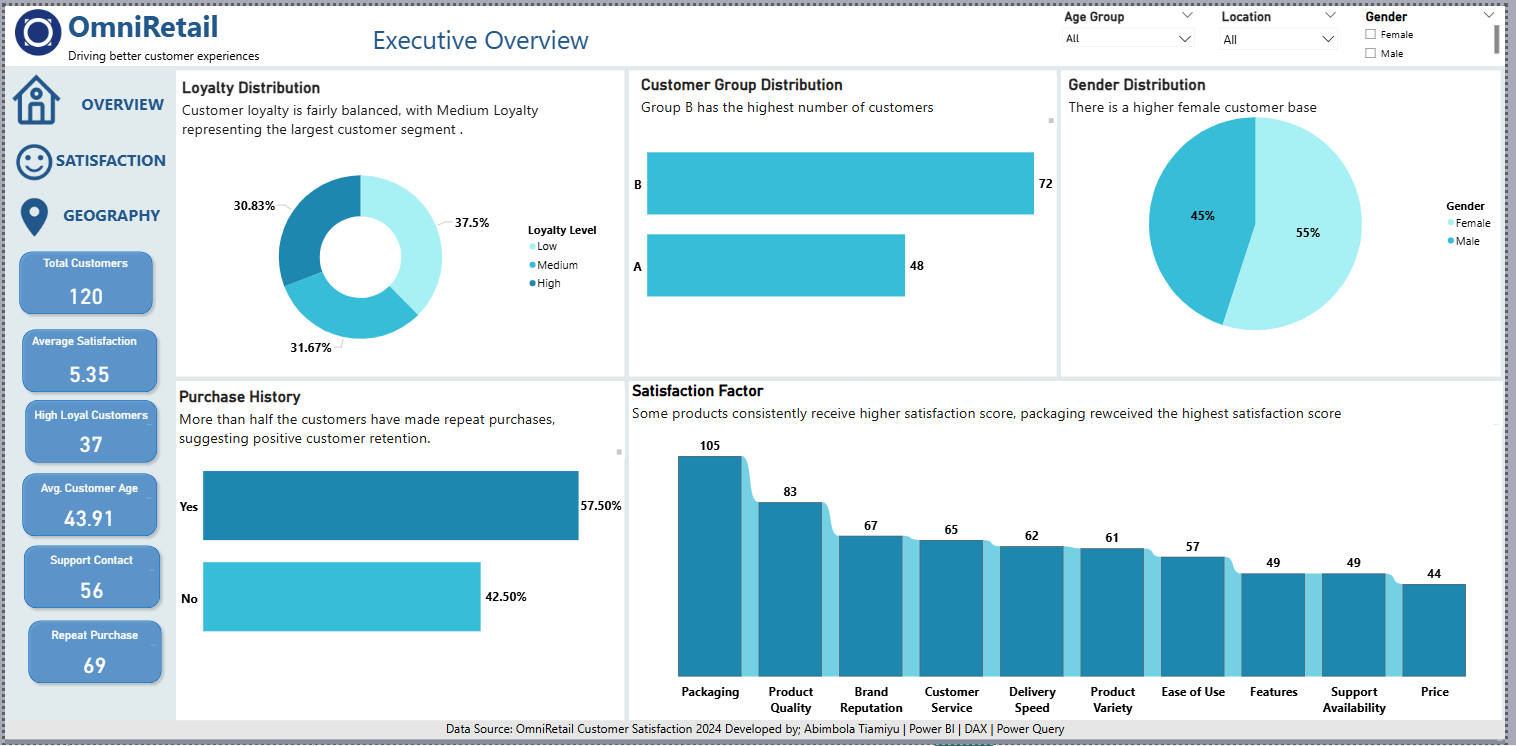

Layout of this report page (visuals, bound fields, positions):
{"tool":"powerbi","page":{"name":"EXECUTIVE OVERVIEW","canvas":[2500,1230],"ordinal":0},"visuals":[{"type":"shape","box":[0,2.5,2500,1217.5],"z":0},{"type":"shape","box":[15,400,240,122.5],"z":0,"group":"g19"},{"type":"shape","box":[20,530,242.5,122.5],"z":0,"group":"g20"},{"type":"shape","box":[25,647.5,237.5,122.5],"z":0,"group":"g21"},{"type":"shape","box":[20,770,242.5,122.5],"z":0,"group":"g22"},{"type":"shape","box":[21.2,890,245,122.5],"z":0,"group":"g23"},{"type":"shape","box":[28.8,1013.8,240,122.5],"z":0,"group":"g24"},{"type":"shape","box":[0,0,2500,100],"z":1000},{"type":"textbox","title":"Total Customers","box":[38.2,417.5,193.5,27.5],"z":1000,"group":"g19"},{"type":"textbox","title":"Average Satisfaction ","box":[39.6,547.5,206,30],"z":1000,"group":"g20"},{"type":"textbox","title":"High Loyal Customers","box":[36.5,668.7,212,32.5],"z":1000,"group":"g21"},{"type":"textbox","title":"Avg. Customer Age","box":[31.7,791.2,216.4,32.5],"z":1000,"group":"g22"},{"type":"textbox","title":"Support Contact","box":[33.1,911.2,218.7,32.5],"z":1000,"group":"g23"},{"type":"textbox","title":"Repeat Purchase","box":[40.4,1035,214.2,32.5],"z":1000,"group":"g24"},{"type":"slicer","fields":{"Values":["Dataset.Age Group"]},"box":[1752,0,240,96],"z":2000},{"type":"textbox","title":"120","box":[38.2,462.5,193.5,42.5],"z":2000,"group":"g19"},{"type":"textbox","title":"5.35","box":[43.5,592.5,195.6,42.5],"z":2000,"group":"g20"},{"type":"columnChart","title":"Satisfaction Score by Product","fields":{"Category":["Dataset.Satisfaction_Factor"],"Y":["Sum(Dataset.Satisfaction_Score)"]},"box":[1040,702.5,1455,487.5],"z":2000,"group":"g11"},{"type":"textbox","title":"37","box":[48,710,191.5,42.5],"z":2000,"group":"g21"},{"type":"textbox","title":"43.91","box":[43.5,832.5,195.6,42.5],"z":2000,"group":"g22"},{"type":"textbox","title":"56","box":[44.9,952.5,197.6,42.5],"z":2000,"group":"g23"},{"type":"textbox","title":"69","box":[52,1076.3,193.5,42.5],"z":2000,"group":"g24"},{"type":"textbox","title":"OmniRetail","box":[100,0,462.5,100],"z":3000},{"type":"slicer","fields":{"Values":["Dataset.Location"]},"box":[2016,0,216,96],"z":4000},{"type":"image","box":[10,0,90,87.5],"z":5000},{"type":"barChart","title":"Customer Group Distribution","fields":{"Y":["CountNonNull(Dataset.Group)"],"Category":["Dataset.Group"]},"box":[1040,107.5,712.5,510],"z":5000,"group":"g13"},{"type":"textbox","box":[562.5,2.5,460,85],"z":6000},{"type":"barChart","title":"Purchase History ","fields":{"Category":["Dataset.Purchase_History"],"Y":["Divide(CountNonNull(Dataset.Purchase_History), ScopedEval(CountNonNull(Dataset.Purchase_History), []))"]},"box":[285,625,747.5,565],"z":7000,"group":"g12"},{"type":"textbox","title":"Data Source: OmniRetail Customer Satisfaction 2024    Developed by; Abimbola Tiamiyu |  Power BI |  DAX |  Power Query ","box":[0,1190,2500,40],"z":7000},{"type":"slicer","fields":{"Values":["Dataset.Gender"]},"box":[2256,0,240,96],"z":8000},{"type":"group","id":"g1","title":"Group 4","box":[15,400,240,122.5],"z":9000},{"type":"group","id":"g2","title":"Group 4","box":[20,530,242.5,122.5],"z":10000},{"type":"group","id":"g3","title":"Group 4","box":[25,647.5,237.5,122.5],"z":11000},{"type":"group","id":"g4","title":"Group 4","box":[20,770,242.5,122.5],"z":12000},{"type":"group","id":"g5","title":"Group 4","box":[21.2,890,245,122.5],"z":13000},{"type":"group","id":"g6","title":"Group 4","box":[28.8,1013.8,240,122.5],"z":14000},{"type":"group","id":"g7","title":"Group 18","box":[285,107.5,747.5,510],"z":15000},{"type":"textbox","title":"Customer Group Distribution","box":[1055,115,697.5,85],"z":16000,"group":"g13"},{"type":"actionButton","box":[93.5,123.6,176.5,78.9],"z":16000,"group":"g10"},{"type":"image","box":[0,107.5,105,95],"z":17000,"group":"g10"},{"type":"group","id":"g8","title":"Group 1","box":[6.2,214.1,265,90],"z":17000},{"type":"actionButton","box":[71.2,214.1,200,80],"z":17000,"group":"g8"},{"type":"actionButton","box":[87.8,315.9,180.6,65.4],"z":17000,"group":"g9"},{"type":"group","id":"g9","title":"Group 3","box":[5,305,263.4,95],"z":18000},{"type":"group","id":"g10","title":"Group 2","box":[0,107.5,270,95],"z":19000},{"type":"image","box":[6.2,214.1,82.5,90],"z":19000,"group":"g8"},{"type":"textbox","title":"Purchase History","box":[285,635,747.5,117.5],"z":19000,"group":"g12"},{"type":"image","box":[5,305,87.5,95],"z":19002,"group":"g9"},{"type":"group","id":"g11","title":"Group 5","box":[1040,625,1455,565],"z":20000},{"type":"textbox","title":"Satisfaction Factor","box":[1040,625,1455,77.5],"z":20000,"group":"g11"},{"type":"group","id":"g12","title":"Group 6","box":[285,625,747.5,565],"z":21000},{"type":"group","id":"g13","title":"Group 20","box":[1040,107.5,712.5,510],"z":22000},{"type":"group","id":"g14","title":"Group 9","box":[20,770,242.5,122.5],"z":23001,"group":"g29"},{"type":"group","id":"g15","title":"Group 9","box":[21.2,890,245,122.5],"z":23001,"group":"g31"},{"type":"group","id":"g16","title":"Group 9","box":[28.8,1013.8,240,122.5],"z":23001,"group":"g33"},{"type":"group","id":"g17","title":"Group 11","box":[21.2,890,245,122.5],"z":23002,"group":"g15"},{"type":"group","id":"g18","title":"Group 11","box":[28.8,1013.8,240,122.5],"z":23002,"group":"g16"},{"type":"group","id":"g19","title":"Group 17","box":[15,400,240,122.5],"z":23003,"group":"g1"},{"type":"group","id":"g20","title":"Group 16","box":[20,530,242.5,122.5],"z":23003,"group":"g25"},{"type":"group","id":"g21","title":"Group 15","box":[25,647.5,237.5,122.5],"z":23003,"group":"g27"},{"type":"group","id":"g22","title":"Group 14","box":[20,770,242.5,122.5],"z":23003,"group":"g14"},{"type":"group","id":"g23","title":"Group 13","box":[21.2,890,245,122.5],"z":23003,"group":"g17"},{"type":"group","id":"g24","title":"Group 12","box":[28.8,1013.8,240,122.5],"z":23003,"group":"g18"},{"type":"group","id":"g25","title":"Group 7","box":[20,530,242.5,122.5],"z":24003,"group":"g2"},{"type":"group","id":"g26","title":"Group 8","box":[25,647.5,237.5,122.5],"z":24003,"group":"g3"},{"type":"group","id":"g27","title":"Group 10","box":[25,647.5,237.5,122.5],"z":24003,"group":"g26"},{"type":"group","id":"g28","title":"Group 8","box":[20,770,242.5,122.5],"z":24003,"group":"g4"},{"type":"group","id":"g29","title":"Group 10","box":[20,770,242.5,122.5],"z":24003,"group":"g28"},{"type":"group","id":"g30","title":"Group 8","box":[21.2,890,245,122.5],"z":24003,"group":"g5"},{"type":"group","id":"g31","title":"Group 10","box":[21.2,890,245,122.5],"z":24003,"group":"g30"},{"type":"group","id":"g32","title":"Group 8","box":[28.8,1013.8,240,122.5],"z":24003,"group":"g6"},{"type":"group","id":"g33","title":"Group 10","box":[28.8,1013.8,240,122.5],"z":24003,"group":"g32"},{"type":"shape","box":[285,107.5,747.5,510],"z":29000,"group":"g7"},{"type":"pieChart","title":"Gender Distribution","fields":{"Category":["Dataset.Gender"],"Y":["CountNonNull(Dataset.Gender)"]},"box":[1760,107.5,732.5,510],"z":29000},{"type":"textbox","title":"Gender Distribution","box":[1767.5,115,697.5,70],"z":29500},{"type":"textbox","title":"Loyalty Distribution","box":[290.7,119.9,732.3,104],"z":29500,"group":"g7"},{"type":"donutChart","title":"Loyalty Distribution","fields":{"Y":["CountNonNull(Dataset.Loyalty_Level)"],"Category":["Dataset.Loyalty_Level"]},"box":[308.4,228.8,699.4,376.3],"z":30000,"group":"g7"}]}

Visuals, with their boxes in screenshot pixels (x1, y1, x2, y2), scaled from the page's 2500x1230 canvas onto the 1516x746 screenshot:
shape: [0, 2, 1515, 740]
shape: [9, 243, 155, 317]
shape: [12, 321, 159, 396]
shape: [15, 393, 159, 467]
shape: [12, 467, 159, 541]
shape: [13, 540, 161, 614]
shape: [17, 615, 163, 689]
shape: [0, 0, 1515, 61]
"Total Customers" textbox: [23, 253, 141, 270]
"Average Satisfaction " textbox: [24, 332, 149, 350]
"High Loyal Customers" textbox: [22, 406, 151, 425]
"Avg. Customer Age" textbox: [19, 480, 150, 500]
"Support Contact" textbox: [20, 553, 153, 572]
"Repeat Purchase" textbox: [24, 628, 154, 647]
slicer - Dataset.Age Group: [1062, 0, 1208, 58]
"120" textbox: [23, 281, 141, 306]
"5.35" textbox: [26, 359, 145, 385]
"Satisfaction Score by Product" columnChart: [631, 426, 1513, 722]
"37" textbox: [29, 431, 145, 456]
"43.91" textbox: [26, 505, 145, 531]
"56" textbox: [27, 578, 147, 603]
"69" textbox: [32, 653, 149, 679]
"OmniRetail" textbox: [61, 0, 341, 61]
slicer - Dataset.Location: [1223, 0, 1353, 58]
image: [6, 0, 61, 53]
"Customer Group Distribution" barChart: [631, 65, 1063, 375]
textbox: [341, 2, 620, 53]
"Purchase History " barChart: [173, 379, 626, 722]
"Data Source: OmniRetail Customer Satisfaction 2024    Developed by; Abimbola Tiamiyu |  Power BI |  DAX |  Power Query " textbox: [0, 722, 1515, 745]
slicer - Dataset.Gender: [1368, 0, 1514, 58]
"Group 4" group: [9, 243, 155, 317]
"Group 4" group: [12, 321, 159, 396]
"Group 4" group: [15, 393, 159, 467]
"Group 4" group: [12, 467, 159, 541]
"Group 4" group: [13, 540, 161, 614]
"Group 4" group: [17, 615, 163, 689]
"Group 18" group: [173, 65, 626, 375]
"Customer Group Distribution" textbox: [640, 70, 1063, 121]
actionButton: [57, 75, 164, 123]
image: [0, 65, 64, 123]
"Group 1" group: [4, 130, 164, 184]
actionButton: [43, 130, 164, 178]
actionButton: [53, 192, 163, 231]
"Group 3" group: [3, 185, 163, 243]
"Group 2" group: [0, 65, 164, 123]
image: [4, 130, 54, 184]
"Purchase History" textbox: [173, 385, 626, 456]
image: [3, 185, 56, 243]
"Group 5" group: [631, 379, 1513, 722]
"Satisfaction Factor" textbox: [631, 379, 1513, 426]
"Group 6" group: [173, 379, 626, 722]
"Group 20" group: [631, 65, 1063, 375]
"Group 9" group: [12, 467, 159, 541]
"Group 9" group: [13, 540, 161, 614]
"Group 9" group: [17, 615, 163, 689]
"Group 11" group: [13, 540, 161, 614]
"Group 11" group: [17, 615, 163, 689]
"Group 17" group: [9, 243, 155, 317]
"Group 16" group: [12, 321, 159, 396]
"Group 15" group: [15, 393, 159, 467]
"Group 14" group: [12, 467, 159, 541]
"Group 13" group: [13, 540, 161, 614]
"Group 12" group: [17, 615, 163, 689]
"Group 7" group: [12, 321, 159, 396]
"Group 8" group: [15, 393, 159, 467]
"Group 10" group: [15, 393, 159, 467]
"Group 8" group: [12, 467, 159, 541]
"Group 10" group: [12, 467, 159, 541]
"Group 8" group: [13, 540, 161, 614]
"Group 10" group: [13, 540, 161, 614]
"Group 8" group: [17, 615, 163, 689]
"Group 10" group: [17, 615, 163, 689]
shape: [173, 65, 626, 375]
"Gender Distribution" pieChart: [1067, 65, 1511, 375]
"Gender Distribution" textbox: [1072, 70, 1495, 112]
"Loyalty Distribution" textbox: [176, 73, 620, 136]
"Loyalty Distribution" donutChart: [187, 139, 611, 367]
